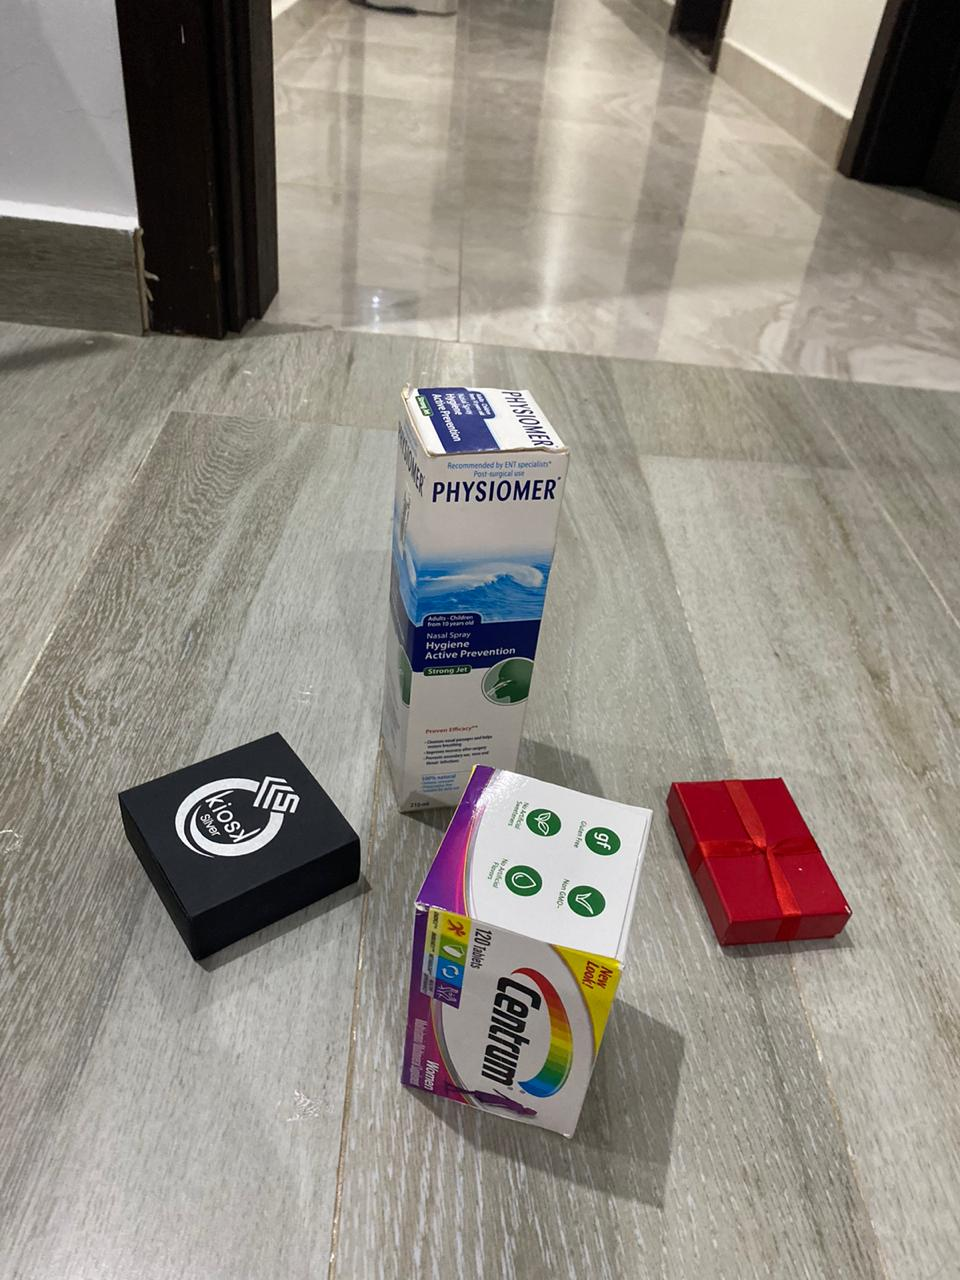Black Box: (667, 776, 862, 956)
Centrum: (421, 761, 654, 1141)
Physiomer: (398, 386, 568, 818)
Red Box: (112, 733, 364, 965)
